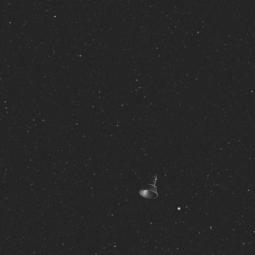debris: (136, 170, 165, 202)
